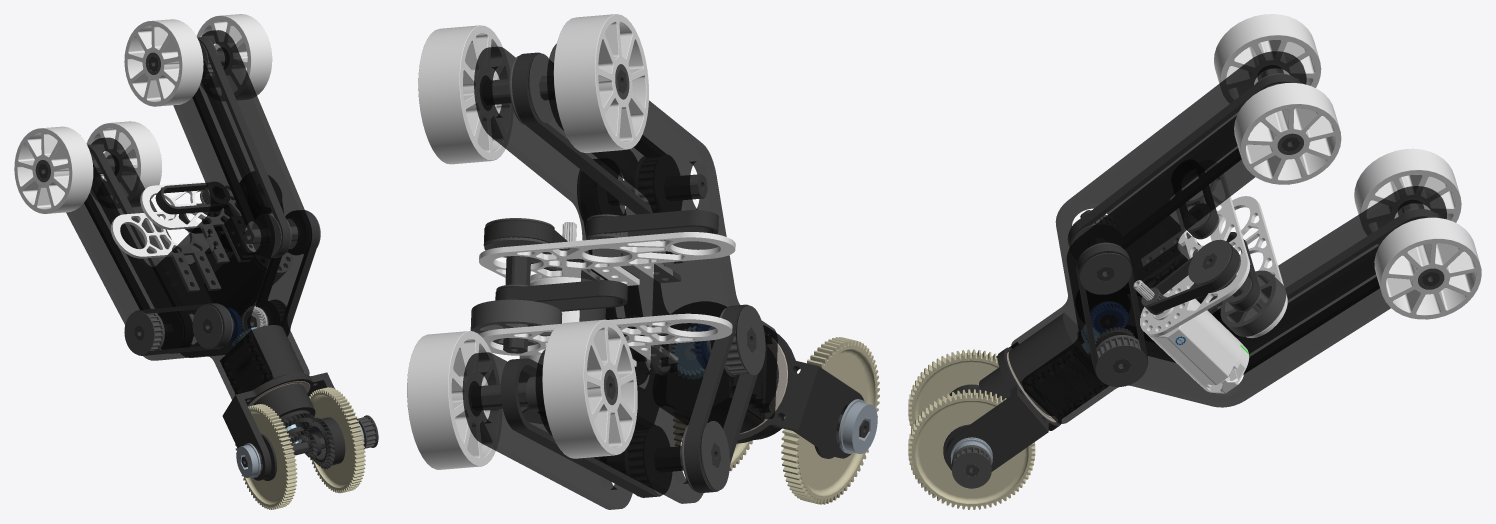
3 views of the same model, side by side, from view 1: azimuth 30°, elevation 25°; view 2: azimuth 150°, elevation 25°; view 3: azimuth 270°, elevation 25° (orthographic). The views are drawn at different scales.
Visible parts, largest first — view 1: Polycarbonate Plate (×2), am-3946 3IN 500Hex Molded Compliant Wheel VER 2 (×4), Spiral Bevel 1.5M 30T 45deg (×2), 95T 5M 9mm Wide Belt (×2), Part 6, 24t HTD Pulley 9.53mm Wide (×6), Part 2, 60T 5M 9mm Wide Belt (×2), Part 4, Part 3, 60T 3M 9mm Wide Belt, Aluminum Nutstrip, #10-32, .500" Spacing (WCP-0336) (+4 smaller); view 2: Polycarbonate Plate (×2), am-3946 3IN 500Hex Molded Compliant Wheel VER 2 (×4), 24t HTD Pulley 9.53mm Wide (×6), Part 3, 95T 5M 9mm Wide Belt (×2), Spiral Bevel 1.5M 30T 45deg (×2), 60T 5M 9mm Wide Belt (×2), Shaft (×5), 60T 3M 9mm Wide Belt (×2), Part 4, Part 2, Part 6 (+8 smaller); view 3: Polycarbonate Plate (×2), am-3946 3IN 500Hex Molded Compliant Wheel VER 2 (×4), Spiral Bevel 1.5M 30T 45deg (×2), 95T 5M 9mm Wide Belt (×2), Part 6, 24t HTD Pulley 9.53mm Wide (×3), WCP-0941, Part 4, Part 3, 2" 1/2" Hex Bore Flex Wheel (WCP-0133), Part 2, 65T 3M 9mm Wide Belt (+6 smaller).
Part boxes in pixels (x1,y1,x2,y2): Polycarbonate Plate (×2): [66, 30, 311, 399]; am-3946 3IN 500Hex Molded Compliant Wheel VER 2 (×4): [14, 14, 272, 213]; Spiral Bevel 1.5M 30T 45deg (×2): [235, 387, 365, 509]; 95T 5M 9mm Wide Belt (×2): [84, 37, 290, 347]; Part 6: [220, 325, 315, 431]; 24t HTD Pulley 9.53mm Wide (×6): [124, 211, 320, 355]; Part 2: [110, 211, 220, 292]; 60T 5M 9mm Wide Belt (×2): [134, 210, 319, 355]; Part 4: [222, 372, 334, 480]; Part 3: [140, 179, 292, 274]; 60T 3M 9mm Wide Belt: [155, 182, 227, 214]; Aluminum Nutstrip, #10-32, .500" Spacing (WCP-0336): [224, 216, 256, 259]; Polycarbonate Plate (×2): [462, 43, 777, 509]; am-3946 3IN 500Hex Molded Compliant Wheel VER 2 (×4): [407, 14, 648, 469]; 24t HTD Pulley 9.53mm Wide (×6): [509, 53, 765, 496]; Part 3: [479, 232, 735, 285]; 95T 5M 9mm Wide Belt (×2): [500, 52, 665, 497]; Spiral Bevel 1.5M 30T 45deg (×2): [673, 337, 879, 504]; 60T 5M 9mm Wide Belt (×2): [579, 159, 757, 493]; Shaft (×5): [470, 69, 720, 472]; 60T 3M 9mm Wide Belt (×2): [495, 210, 718, 311]; Part 4: [736, 325, 864, 458]; Part 2: [479, 313, 732, 366]; Part 6: [666, 301, 797, 439]; Polycarbonate Plate (×2): [1011, 51, 1446, 423]; am-3946 3IN 500Hex Molded Compliant Wheel VER 2 (×4): [1214, 14, 1481, 319]; Spiral Bevel 1.5M 30T 45deg (×2): [908, 349, 1035, 509]; 95T 5M 9mm Wide Belt (×2): [1067, 74, 1440, 374]; Part 6: [975, 312, 1108, 420]; 24t HTD Pulley 9.53mm Wide (×3): [1070, 214, 1147, 386]; WCP-0941: [1133, 280, 1248, 387]; Part 4: [946, 342, 1061, 471]; Part 3: [1140, 162, 1250, 336]; 2" 1/2" Hex Bore Flex Wheel (WCP-0133): [1220, 270, 1286, 336]; Part 2: [1191, 196, 1287, 338]; 65T 3M 9mm Wide Belt: [1143, 242, 1239, 313].
Bounding box in the file's own units: 0.1781 × 0.3782 × 0.4239.
